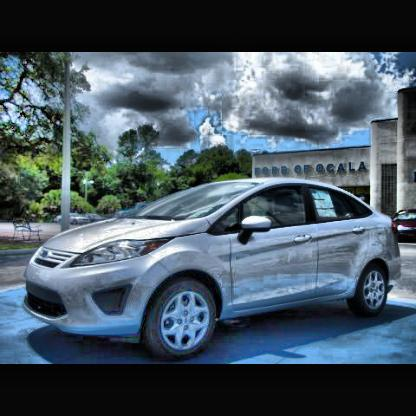Ford Fiesta Sedan 2012: (26, 178, 403, 361)
